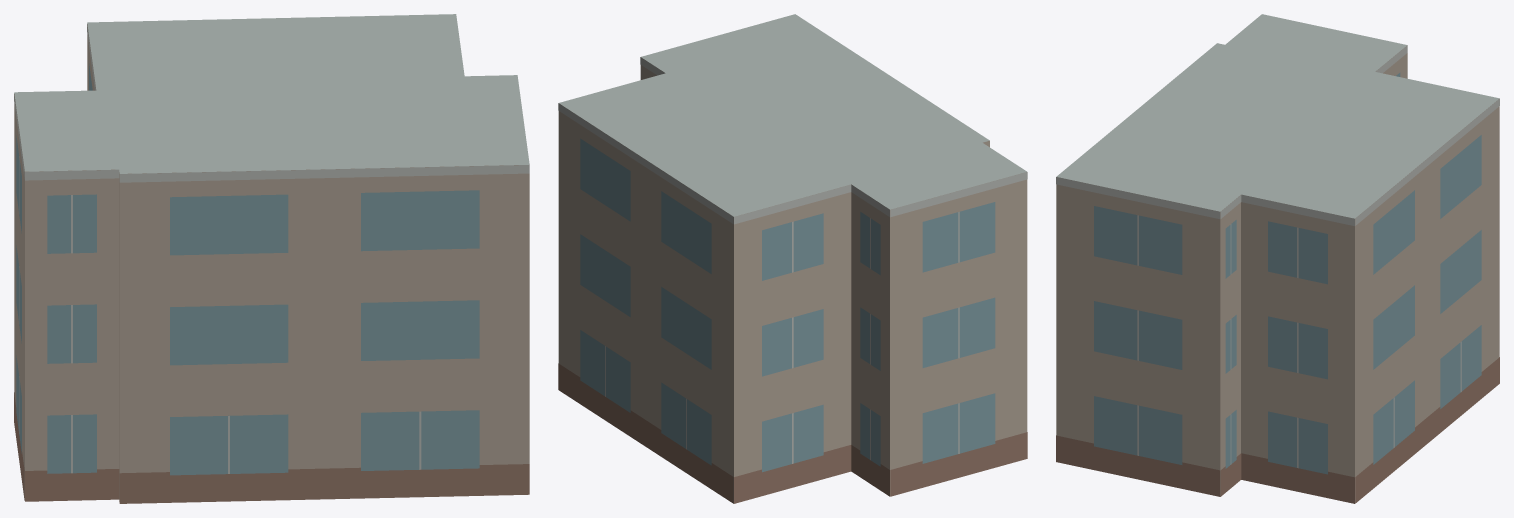
The model's file is survey-upis-32803298.glb.
The picture shows the model from 3 angles, left to right: view 1: azimuth 30°, elevation 25°; view 2: azimuth 150°, elevation 25°; view 3: azimuth 270°, elevation 25°; orthographic projection. The views are drawn at different scales.
Parts seen in each view (by area): view 1: survey-upis-32803298.tmp; view 2: survey-upis-32803298.tmp; view 3: survey-upis-32803298.tmp.
Boxes of the visible parts, bbox=[...] form: survey-upis-32803298.tmp: bbox=[14, 14, 529, 503]; survey-upis-32803298.tmp: bbox=[558, 14, 1027, 503]; survey-upis-32803298.tmp: bbox=[1056, 14, 1499, 503].
Bounding box in the file's own units: 14.09 × 9.15 × 12.91.
